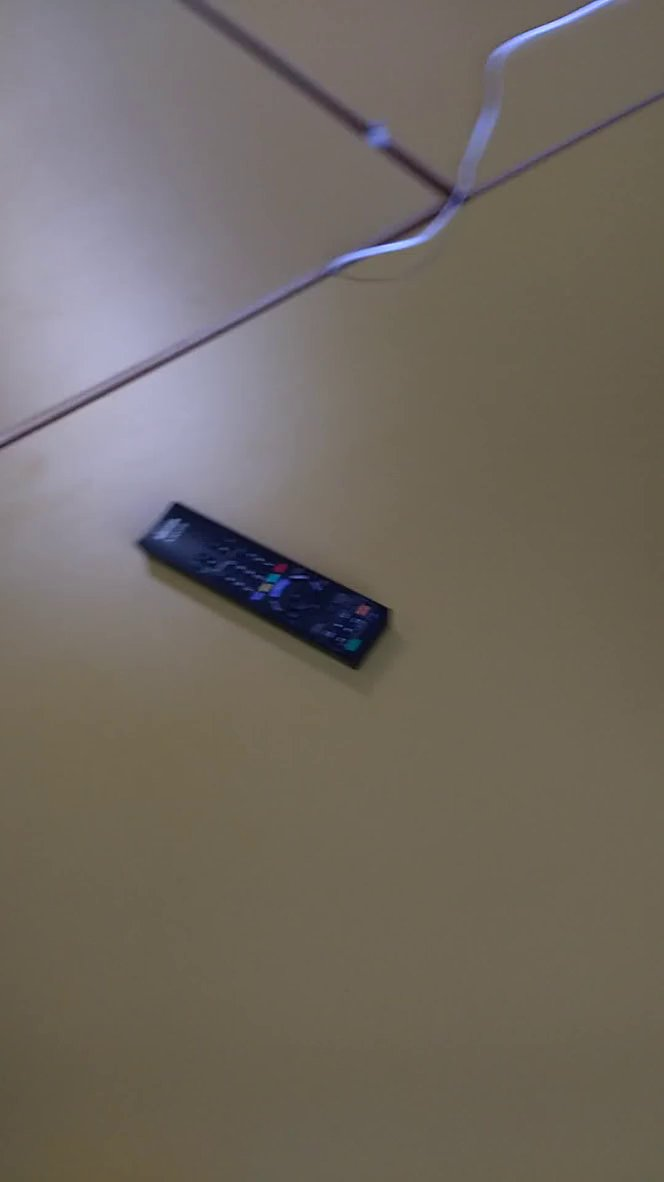remote: (126, 490, 410, 706)
